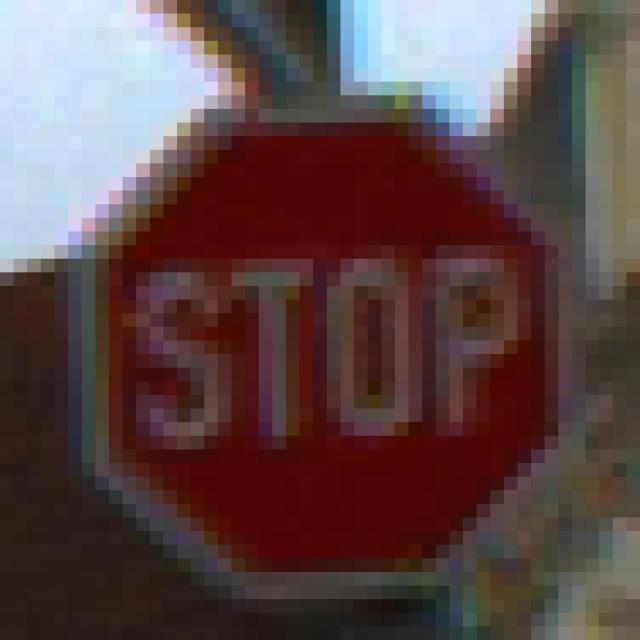STOP: (69, 83, 559, 573)
